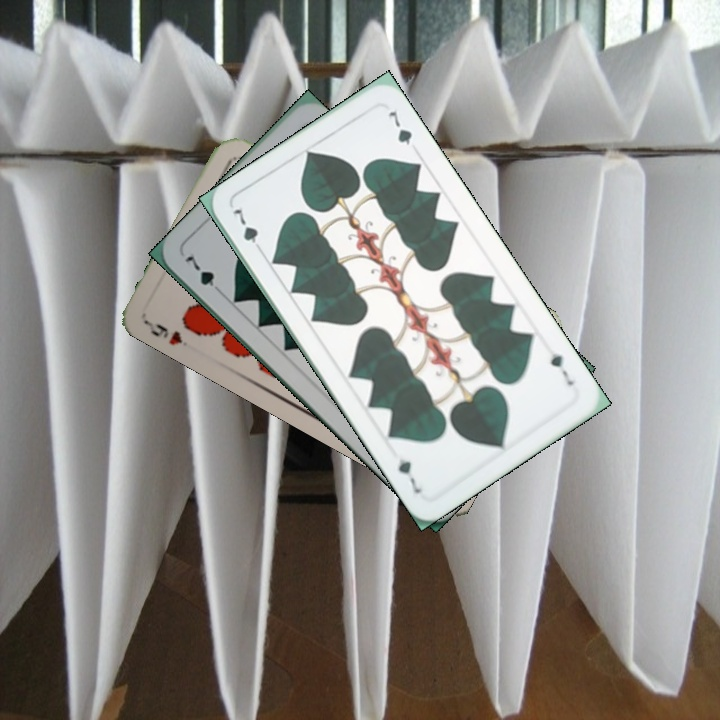G7: (180, 250, 227, 299), (229, 204, 264, 257), (545, 343, 577, 388)
H9: (143, 317, 185, 348)
